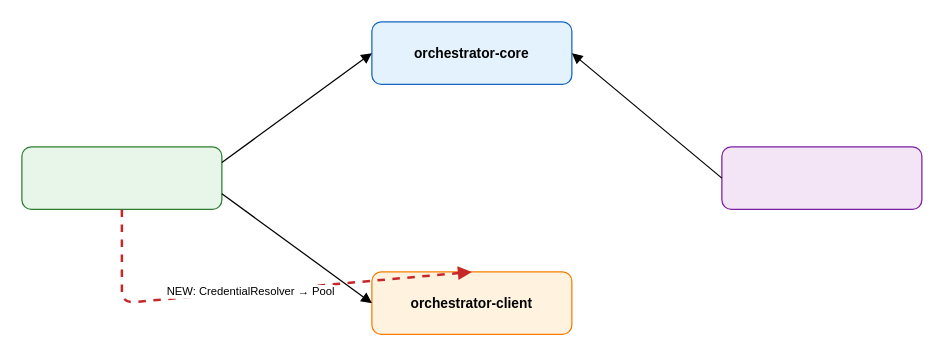
This 944x356 diagram has some shape labels left out. Each missing label, with the box of its shape:
orchestrator-bridge: (721, 146, 922, 209)
orchestrator-server: (21, 146, 222, 209)
